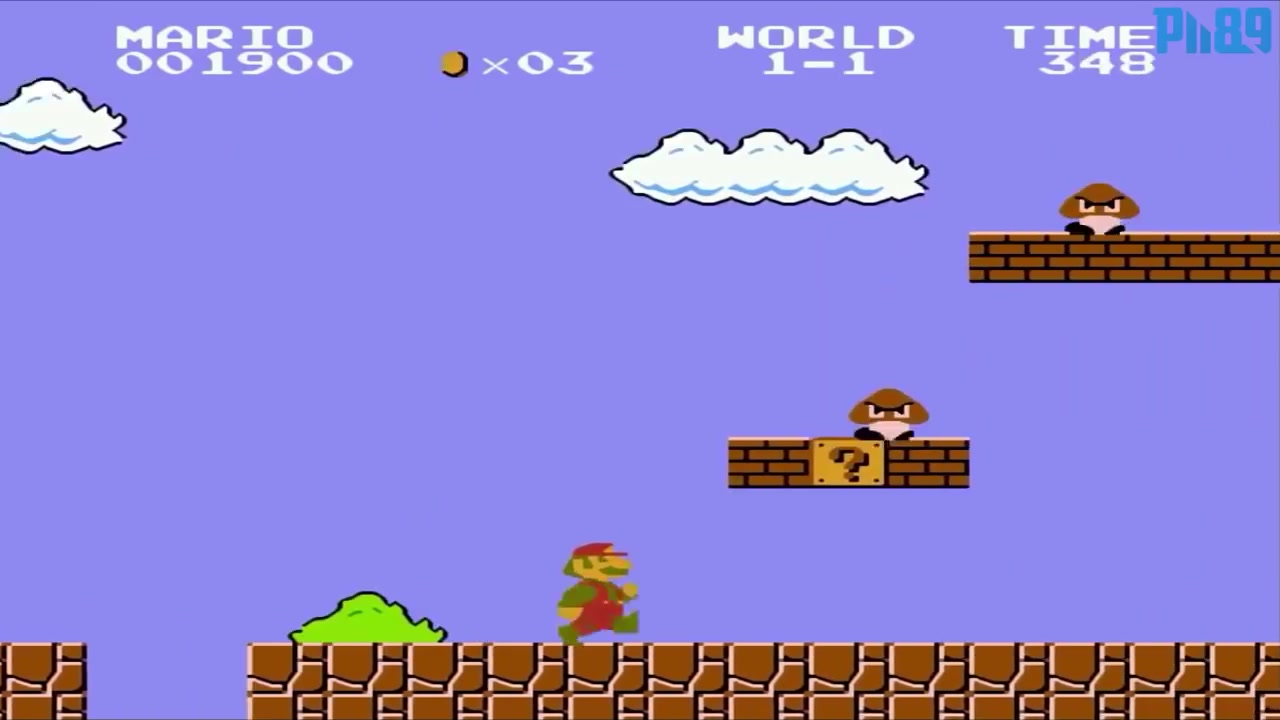mario: (542, 536, 648, 651)
